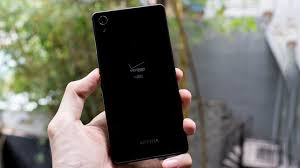sony: (90, 1, 190, 166)
